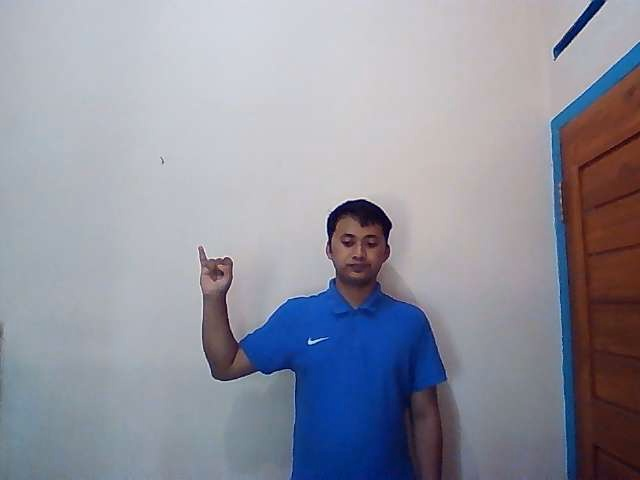I: (197, 245, 233, 298)
